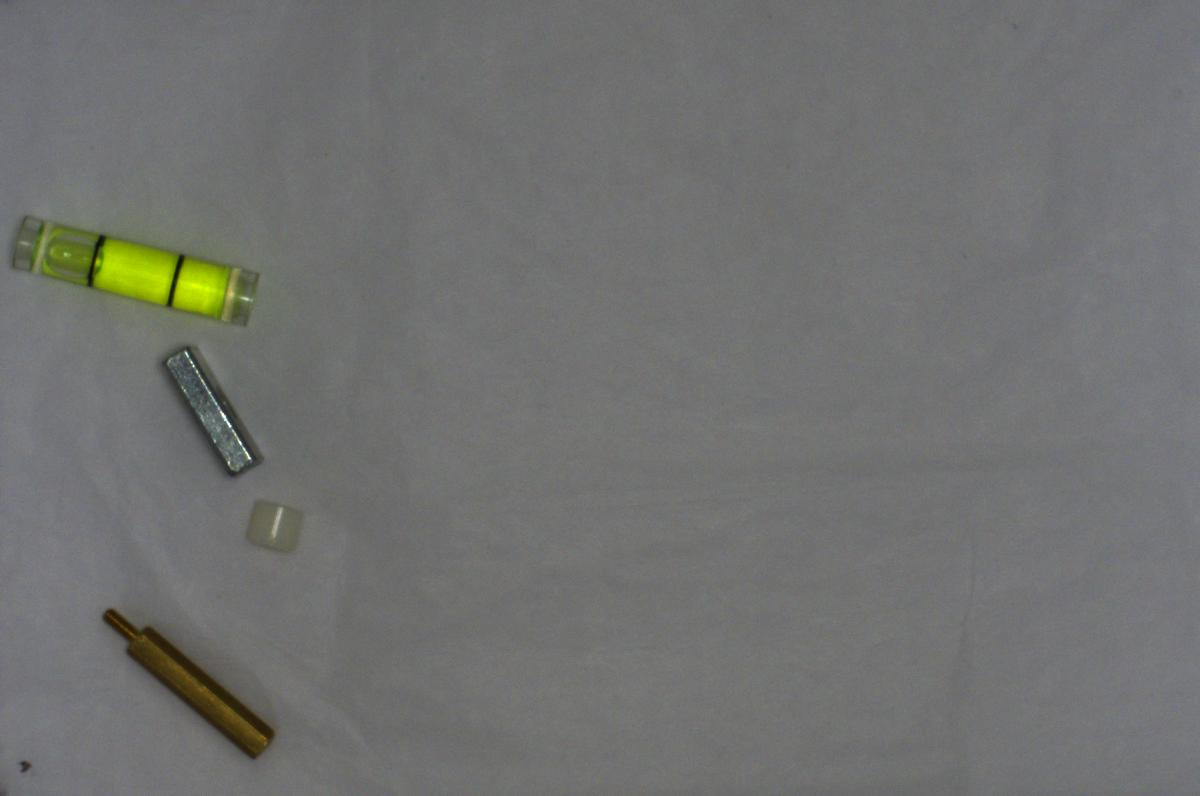Hexagon pillar: (98, 606, 279, 756)
Horizontal bubble: (10, 213, 266, 329)
Plastic cushion pillar: (244, 493, 305, 554)
Rectangular nut: (161, 342, 270, 480)
